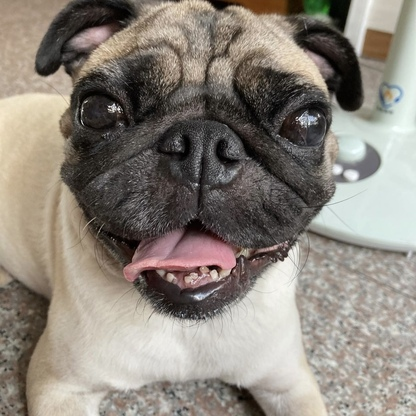Pug: (1, 1, 372, 416)
